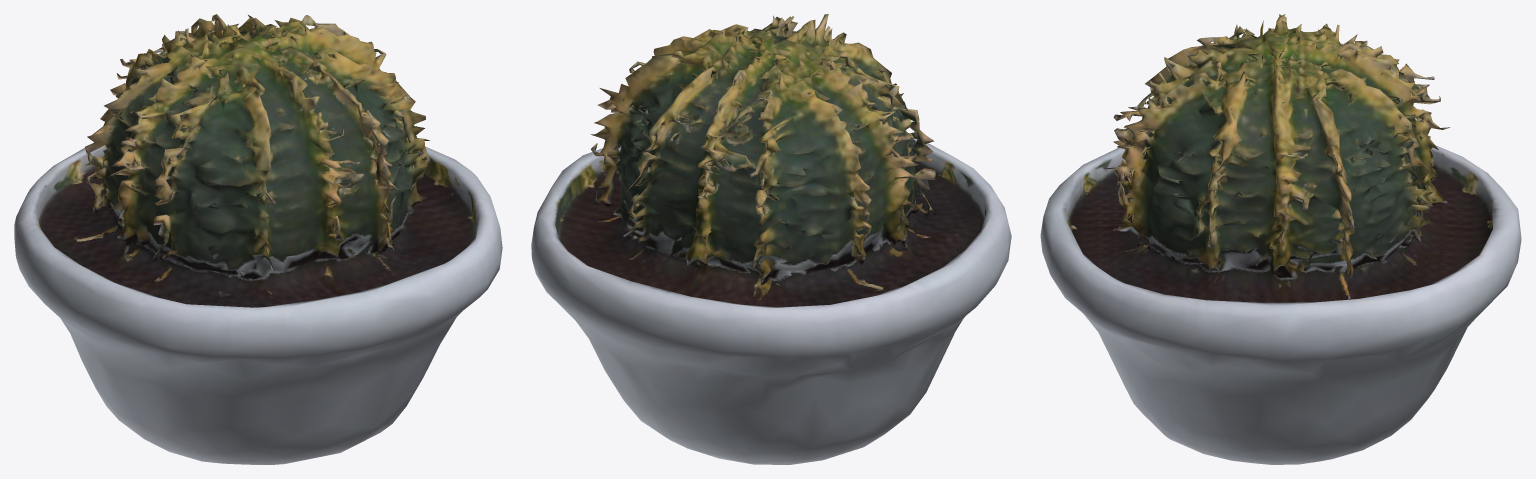
The model's file is b829fba1348c_e2e4e2179b2b_large_cactus_in_a_w.glb.
The picture shows the model from 3 angles, left to right: view 1: azimuth 30°, elevation 25°; view 2: azimuth 150°, elevation 25°; view 3: azimuth 270°, elevation 25°; orthographic projection.
Parts seen in each view (by area): view 1: mesh; view 2: mesh; view 3: mesh.
Boxes of the visible parts, x1=… form: mesh: x1=14, y1=14, x2=502, y2=464; mesh: x1=531, y1=14, x2=1011, y2=464; mesh: x1=1040, y1=14, x2=1521, y2=464.
Size of the model in its own units: 0.9956 by 0.873 by 1.
Materials: 1 (1 with a texture image).
